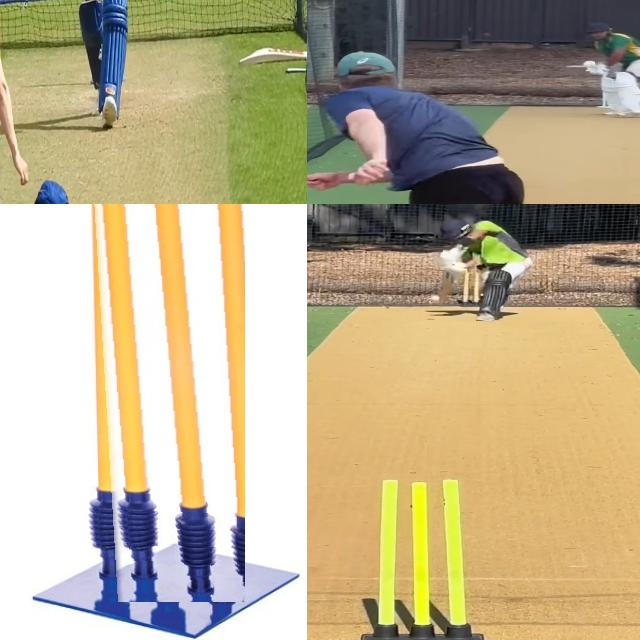Cricket ball: (581, 58, 598, 70), (428, 294, 443, 303)
Stumps: (84, 204, 245, 602), (360, 479, 485, 640)
